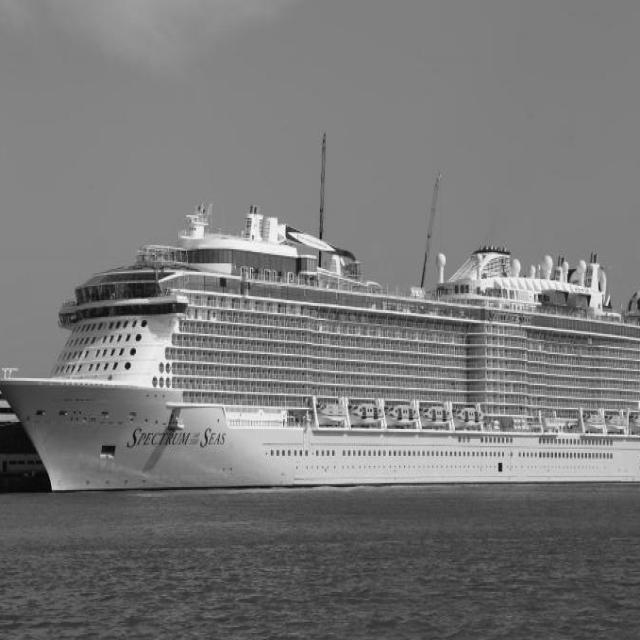cruises: (1, 201, 640, 507)
